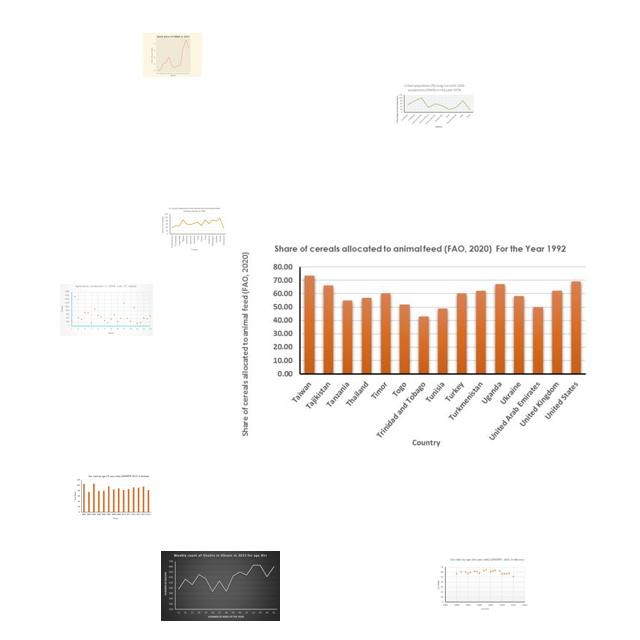Graph: (234, 236, 603, 458), (161, 551, 280, 621), (435, 556, 529, 611), (60, 284, 153, 336), (73, 473, 154, 521), (395, 83, 475, 129), (160, 205, 227, 252), (143, 33, 202, 77)
